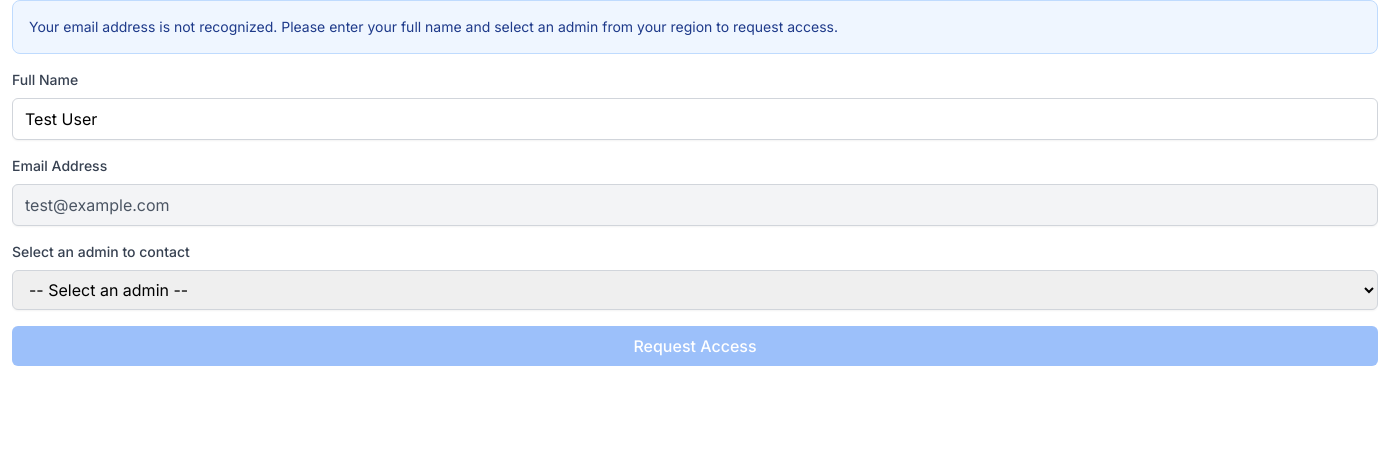
Test case: AdminApproverSelector › should disable form while submitting
Select "Admin User One (Test City, CA)" in the dropdown. click: [695, 290]
box: [12,270,1378,310]
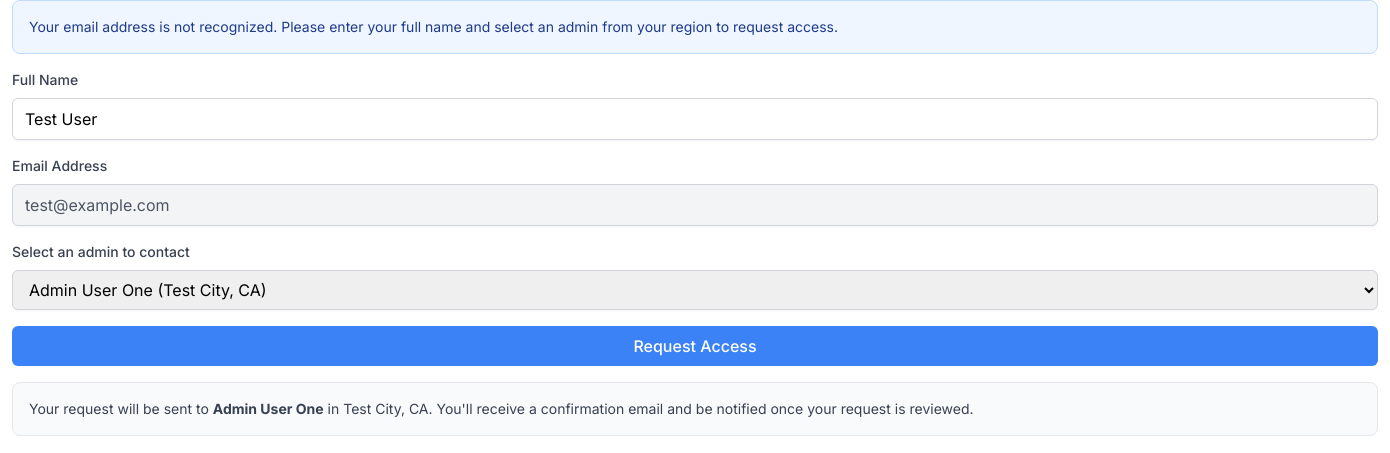
Click the button "Request Access". click: [695, 346]
box: [12,326,1378,366]
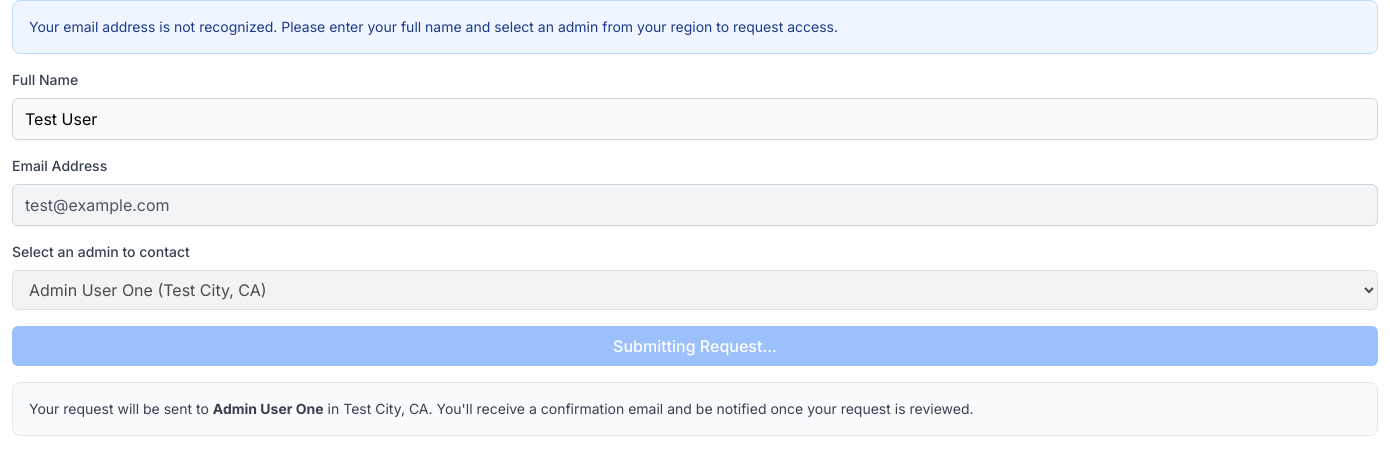
Expected: the button "Submitting Request..." is shown, [12,326,1378,366]
Expected: the dropdown is disabled, [12,270,1378,310]
